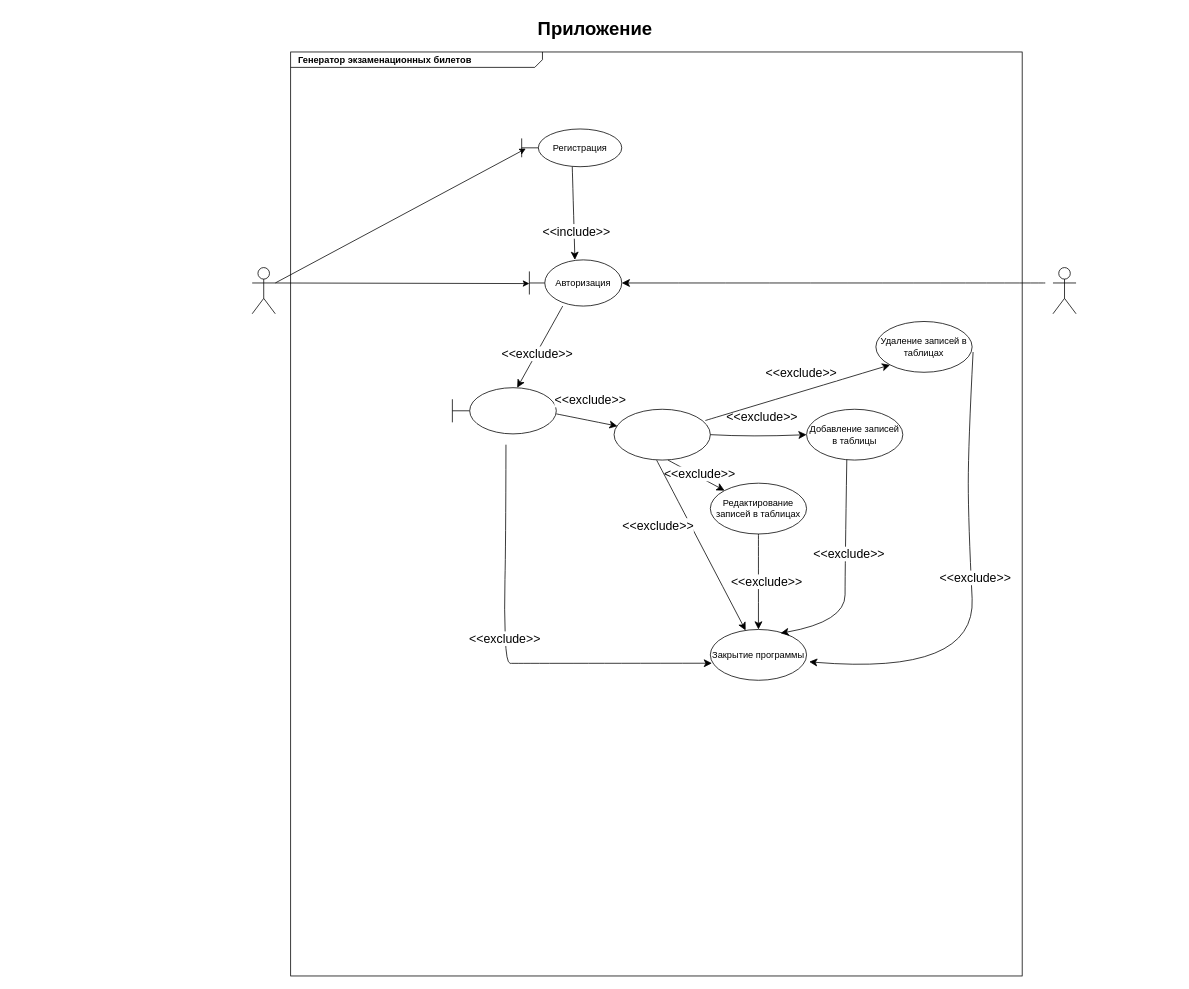
Image size: 1189x989. Some labels were removed from this diagram. Here are the shapes that lost their labels. From the top down, the box of each, then its label:
(251, 267, 275, 314): Пользователь
(1052, 267, 1076, 314): Администратор
(452, 387, 556, 434): Формирование билета
(613, 408, 710, 460): Просмотр записей в таблицах
